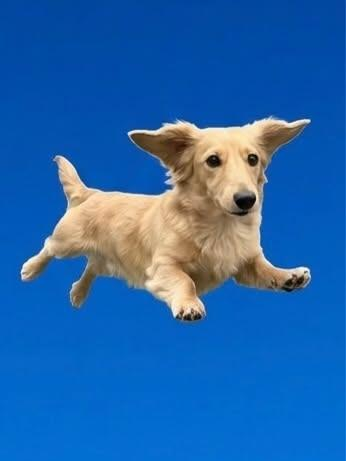puppy-dog: (19, 113, 313, 325)
